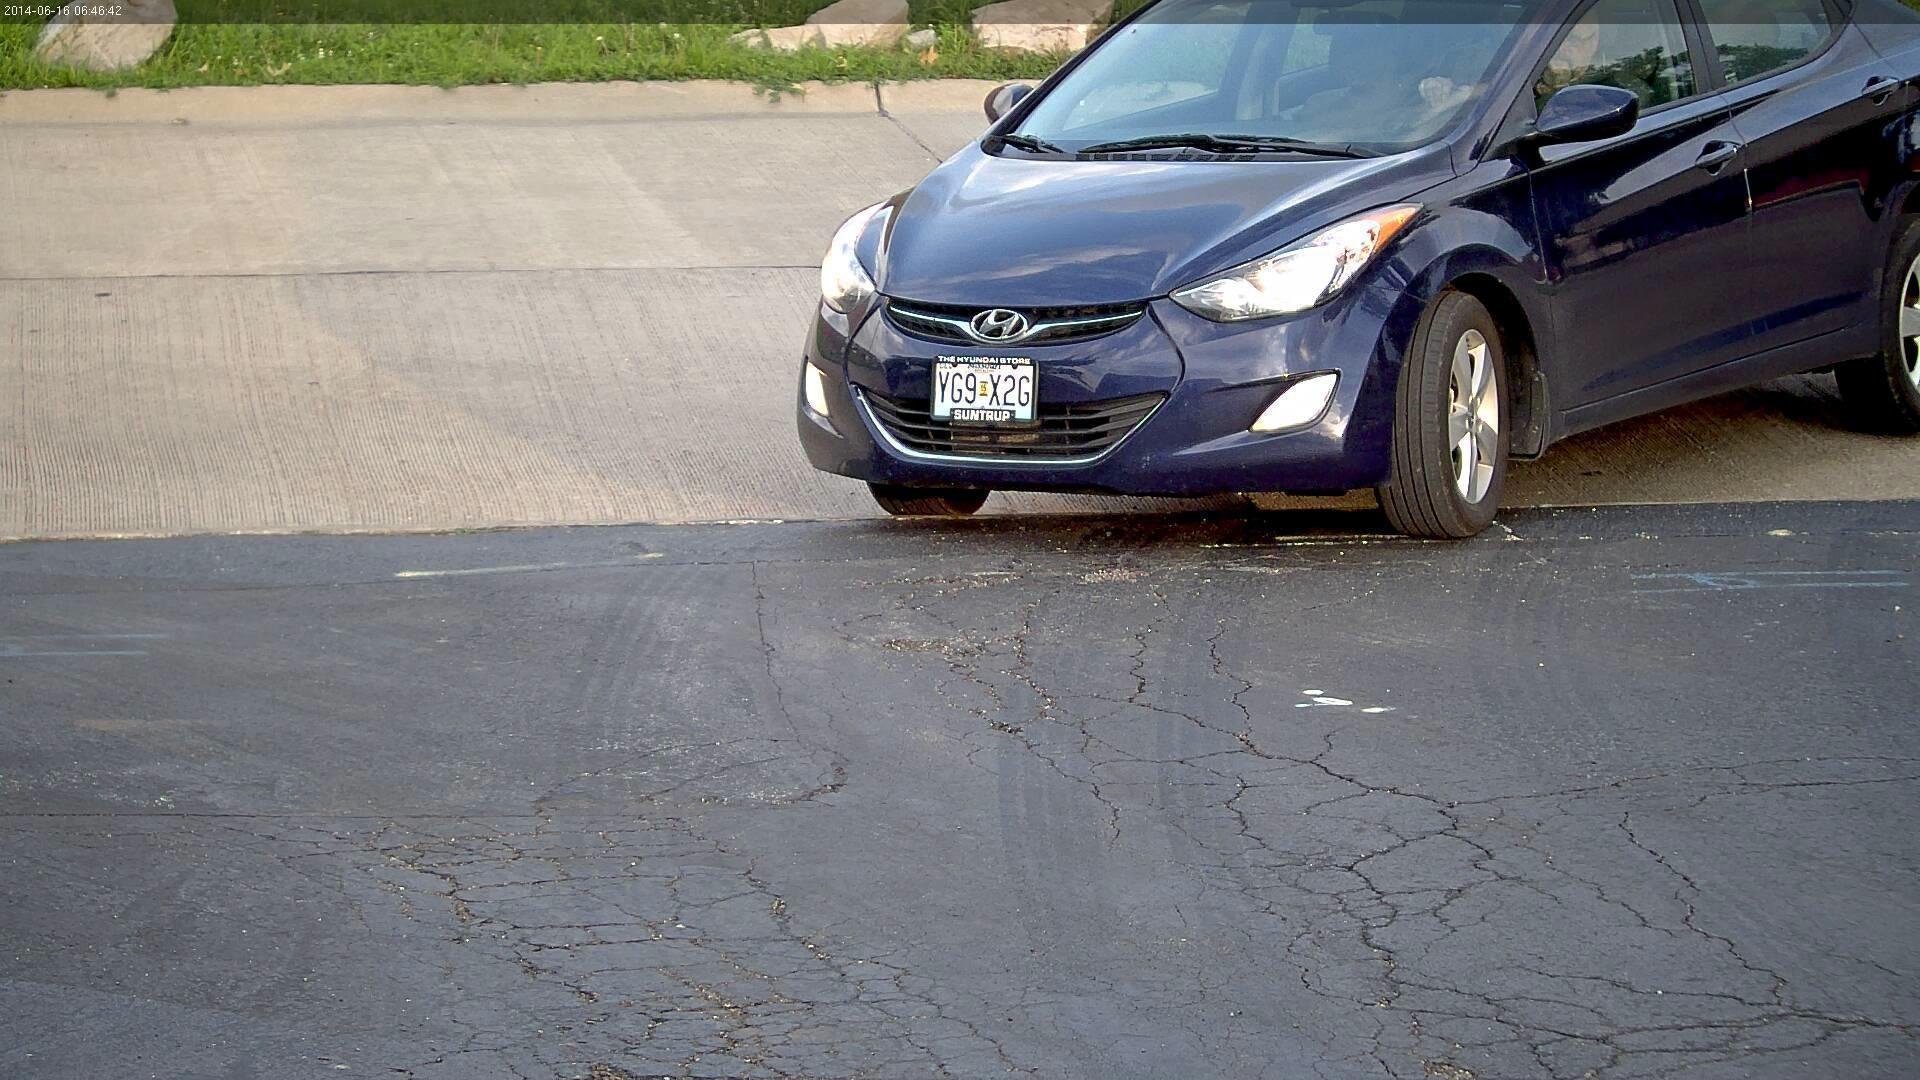placa de veiculo: (905, 344, 1057, 459)
